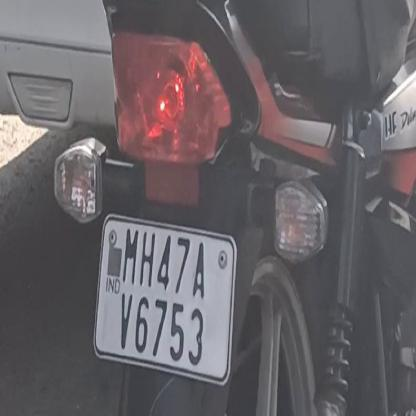license_plate: (94, 216, 234, 381)
